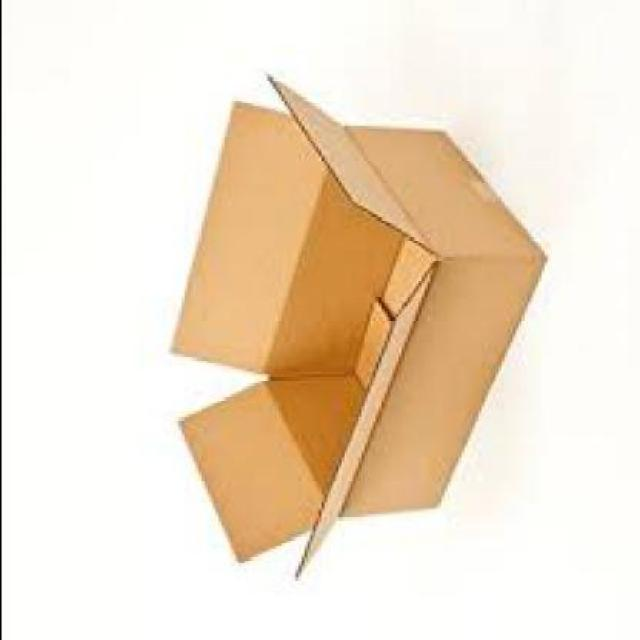CARDBOARD: (166, 80, 543, 583)
